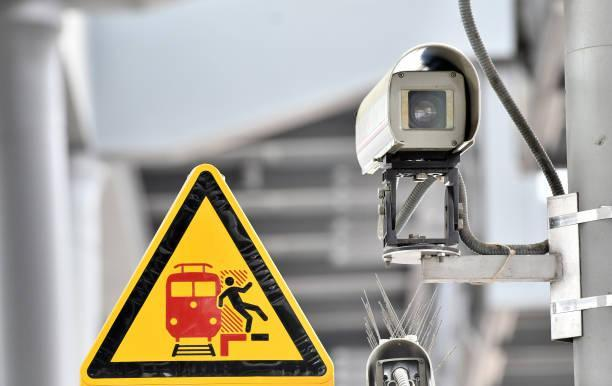camera: (310, 37, 504, 193)
